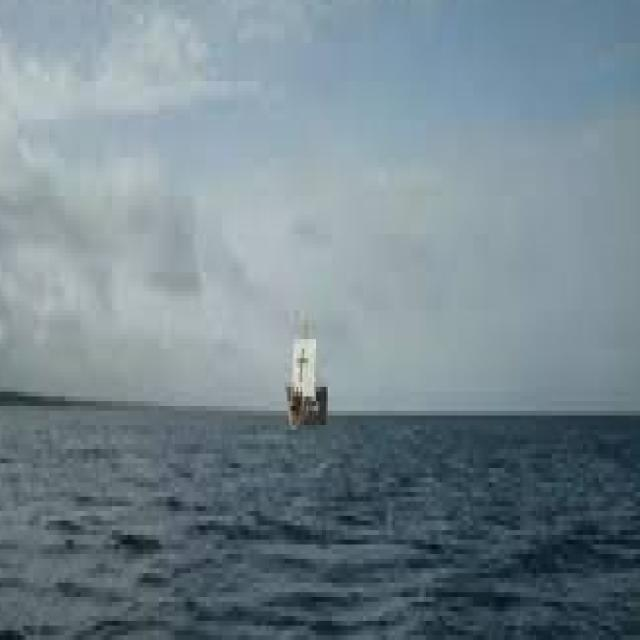fishing boat: (273, 333, 336, 432)
